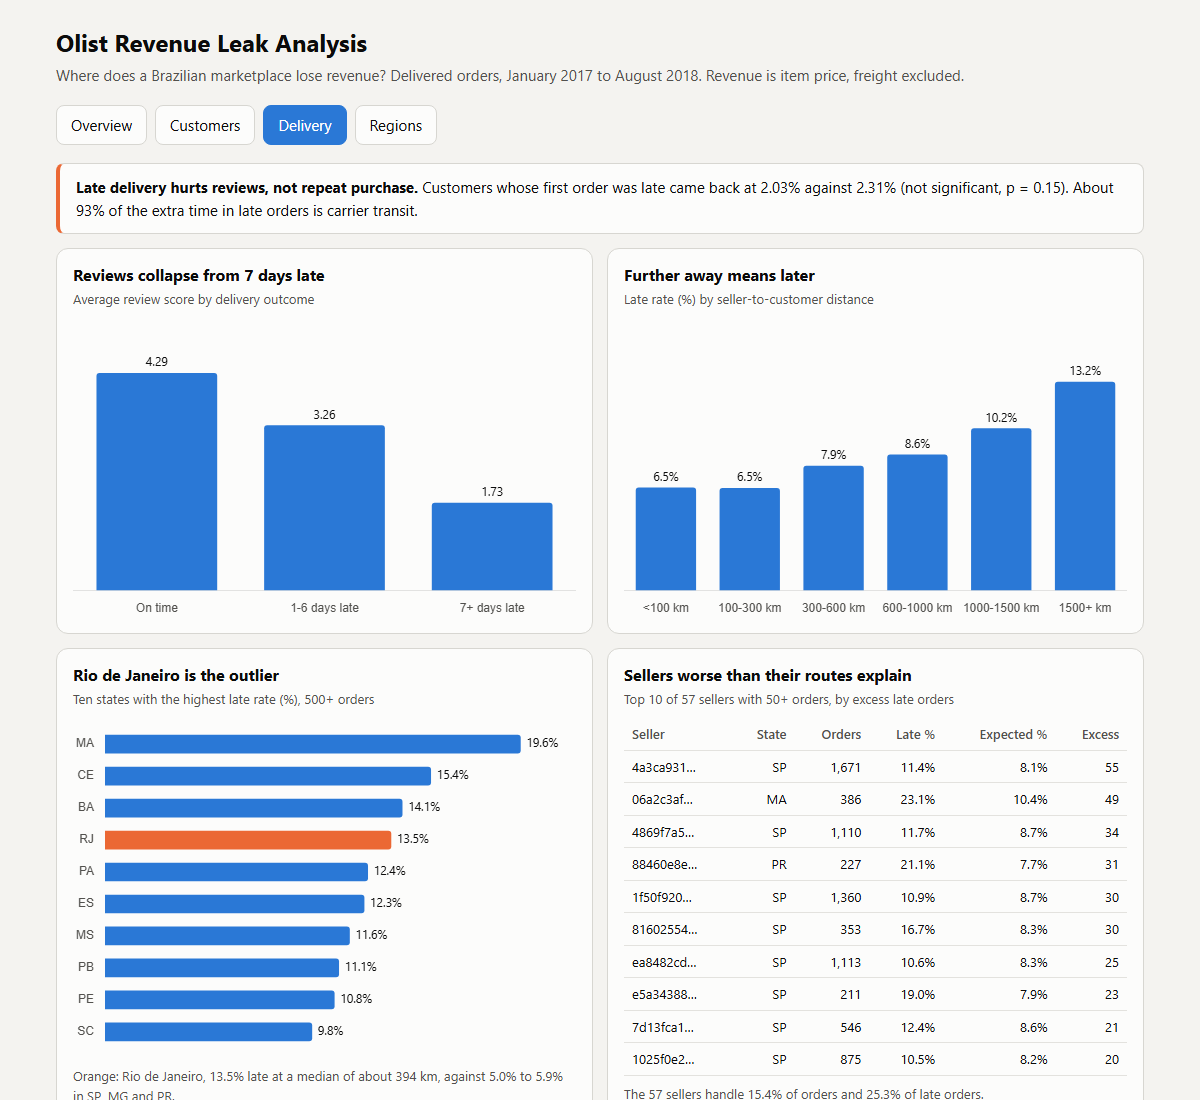

What the dashboard file says about the page in this screenshot:
{"tool":"powerbi","page":{"name":"Delivery","canvas":[1280,720],"ordinal":2},"visuals":[{"type":"textbox","box":[20,12,900,44],"z":0},{"type":"textbox","box":[20,60,1240,44],"z":10},{"type":"clusteredColumnChart","title":"Reviews collapse from 7 days late","fields":{"Category":["fact_orders.delivery_bucket"],"Y":["fact_orders.Avg Review"]},"box":[20,115,400,300],"z":20},{"type":"clusteredColumnChart","title":"Further away means later","fields":{"Category":["fact_orders.distance_band"],"Y":["fact_orders.Late Rate Known Distance"]},"box":[440,115,400,300],"z":30},{"type":"clusteredBarChart","title":"RJ is late despite being close","fields":{"Category":["dim_customer.state"],"Y":["fact_orders.Late Rate Top 10 States (500+ orders)"]},"box":[860,115,400,300],"z":40},{"type":"tableEx","title":"Sellers worse than their routes explain","fields":{"Values":["seller_watchlist.seller_id","seller_watchlist.seller_state","seller_watchlist.orders","seller_watchlist.late_orders","seller_watchlist.late_pct","seller_watchlist.expected_pct","seller_watchlist.excess_late","seller_watchlist.revenue"]},"box":[20,430,1240,275],"z":50}]}

Visuals, with their boxes on the page's 1280x720 design canvas (x1, y1, x2, y2). These are canvas units, not pixel positions in the 1200x1100 screenshot, which may show the page scaled, cropped or inside an application window:
textbox: {"left": 20, "top": 12, "right": 920, "bottom": 56}
textbox: {"left": 20, "top": 60, "right": 1260, "bottom": 104}
"Reviews collapse from 7 days late" clusteredColumnChart: {"left": 20, "top": 115, "right": 420, "bottom": 415}
"Further away means later" clusteredColumnChart: {"left": 440, "top": 115, "right": 840, "bottom": 415}
"RJ is late despite being close" clusteredBarChart: {"left": 860, "top": 115, "right": 1260, "bottom": 415}
"Sellers worse than their routes explain" tableEx: {"left": 20, "top": 430, "right": 1260, "bottom": 705}
